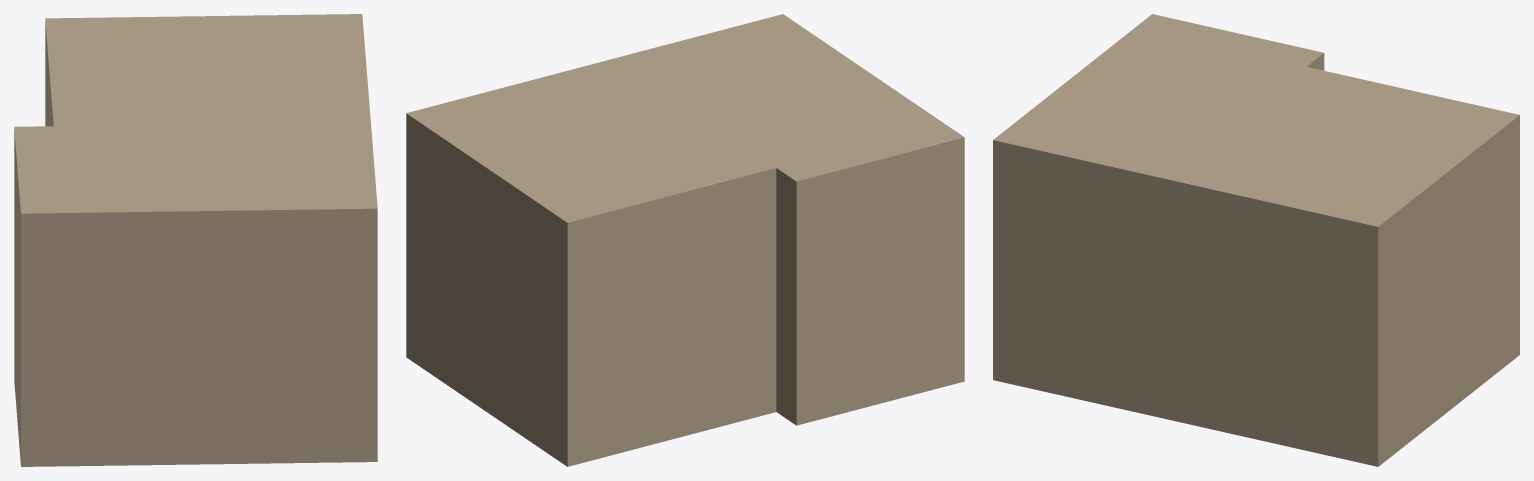
File: bld_101353697.dae
3 views of the same model, side by side, from view 1: azimuth 30°, elevation 25°; view 2: azimuth 150°, elevation 25°; view 3: azimuth 270°, elevation 25° (orthographic). The views are drawn at different scales.
Visible parts, largest first — view 1: bld_101353697; view 2: bld_101353697; view 3: bld_101353697.
Boxes of the visible parts, x1=… form: bld_101353697: x1=14, y1=14, x2=377, y2=466; bld_101353697: x1=406, y1=14, x2=964, y2=466; bld_101353697: x1=993, y1=14, x2=1519, y2=466.
Bounding box in the file's own units: 15.22 × 15.91 × 8.
